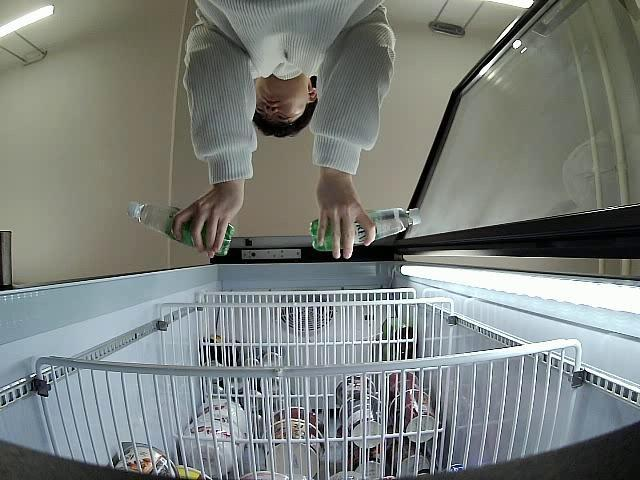18_trevi: (124, 199, 233, 255), (310, 206, 422, 250)
